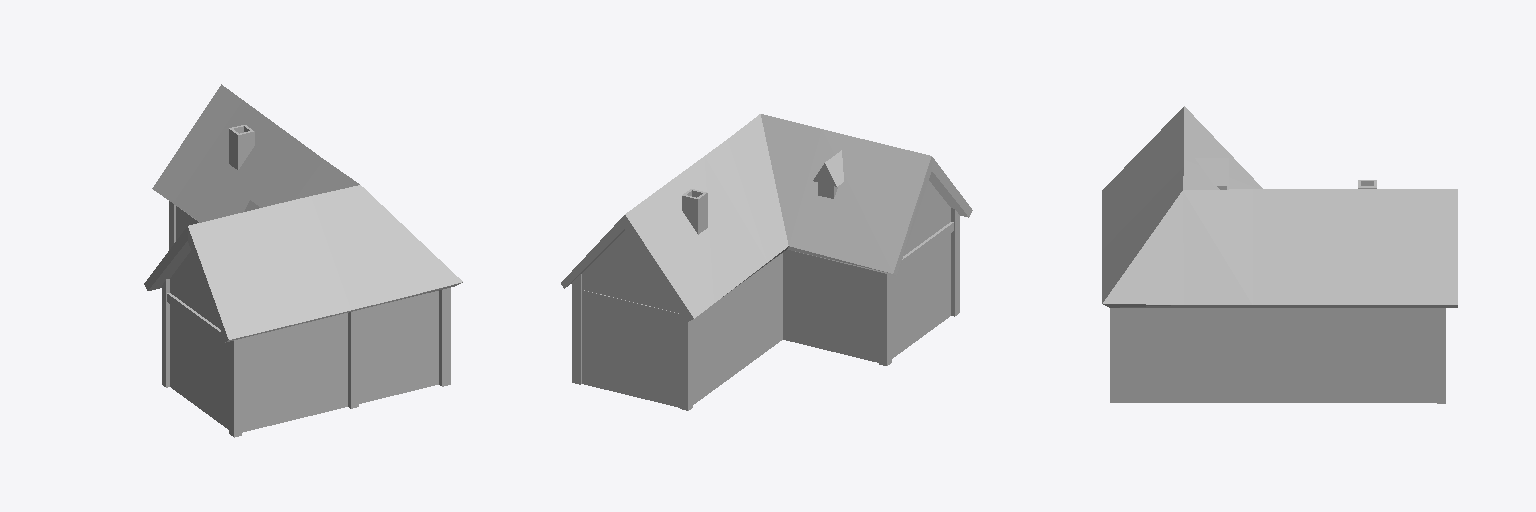
Rendered from house_1.obj.
3 views of the same model, side by side, from view 1: azimuth 30°, elevation 25°; view 2: azimuth 150°, elevation 25°; view 3: azimuth 270°, elevation 25° (orthographic).
Parts seen in each view (by area): view 1: Cube:000_Cube:175; view 2: Cube:000_Cube:175; view 3: Cube:000_Cube:175.
Part boxes in pixels (x1,y1,x2,y2): Cube:000_Cube:175: (144, 84, 462, 437); Cube:000_Cube:175: (561, 114, 972, 410); Cube:000_Cube:175: (1102, 106, 1457, 403).
Bounding box in the file's own units: 6.41 × 4.82 × 8.32.